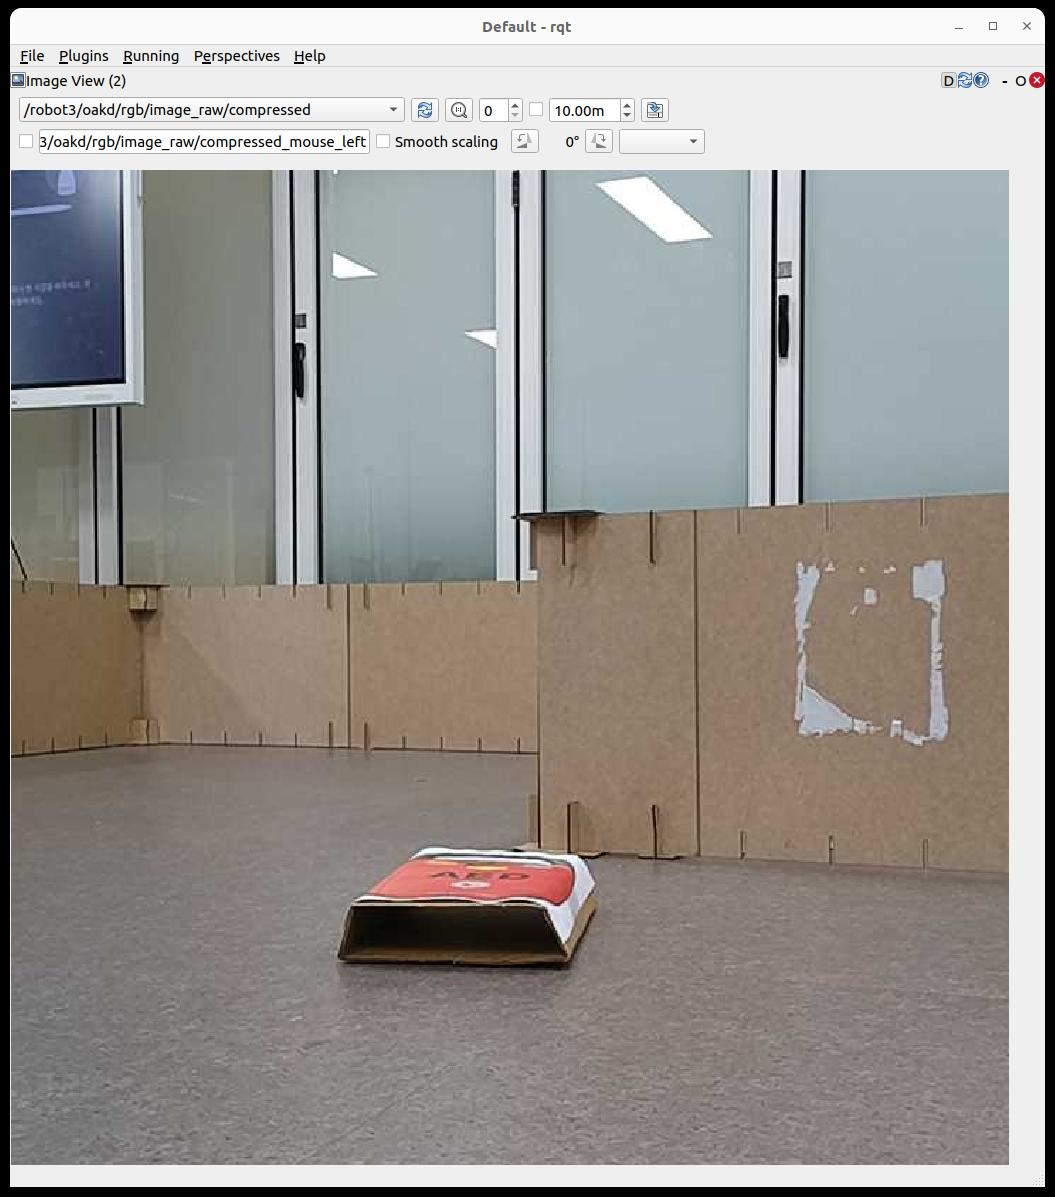AED: (373, 849, 572, 904)
